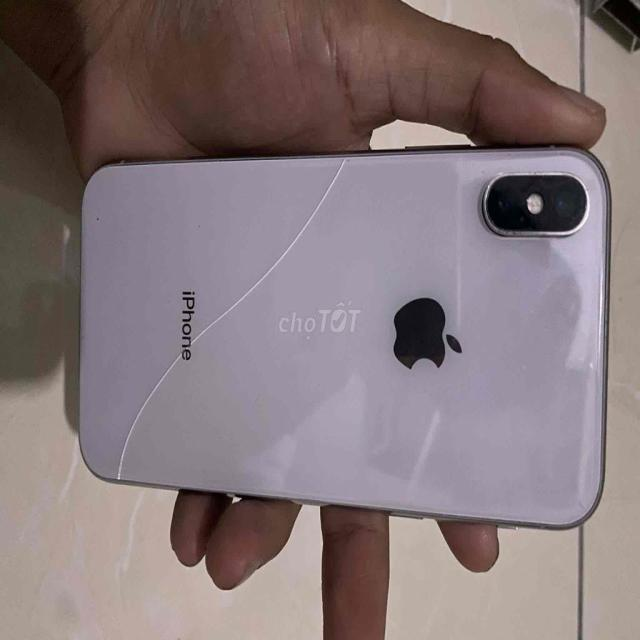physical_damage: (119, 172, 303, 480), (302, 159, 350, 228)
scratch: (482, 176, 495, 196)
